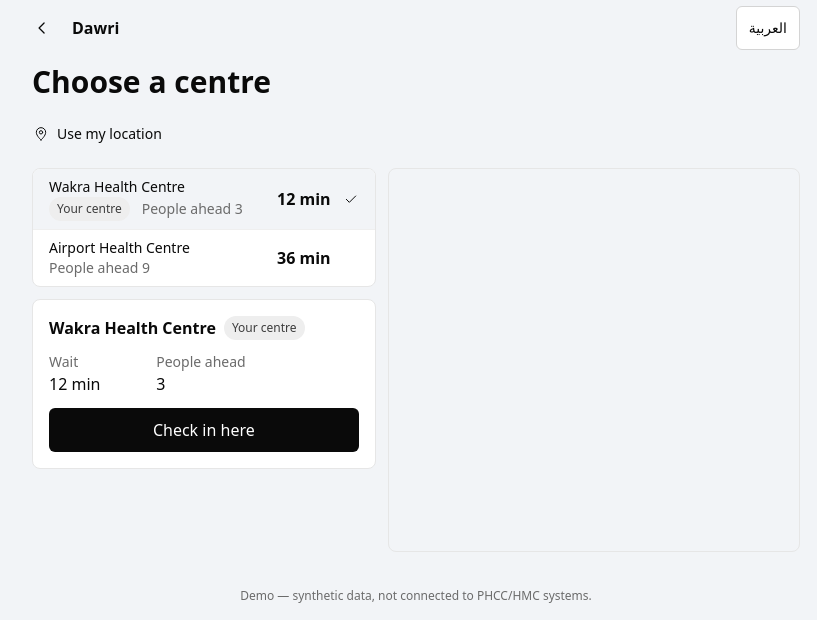
Scenario: S08 location › never asks at load, then refetches with the point and shows the distance
The width and height of the screenshot is (817, 620).
Expected: the element with test id "selected-centre" is shown, [32,299,376,469]
Click the button with test id "use-location" at (97, 134), box [16,112,179,156]
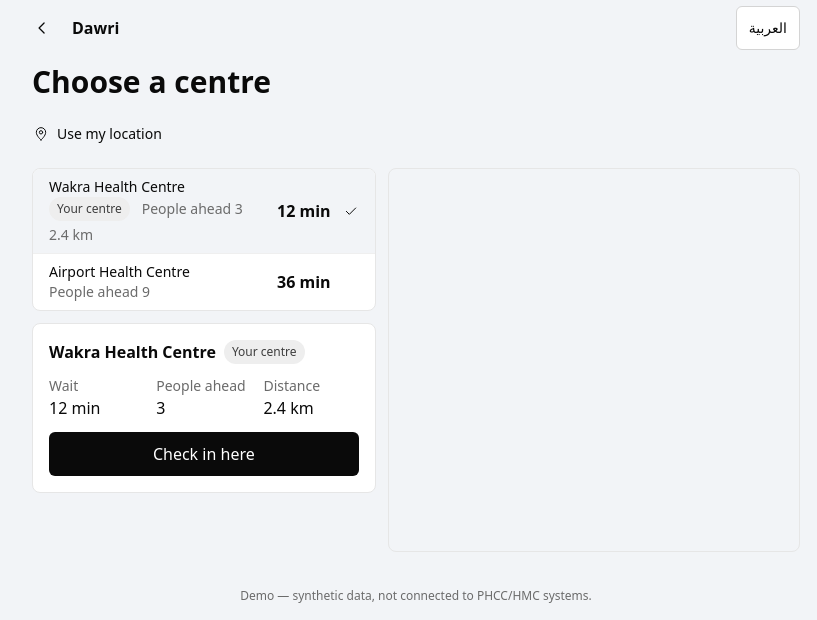
Result: the element with test id "selected-centre" shows "2.4 km" at [32,323,376,493]
